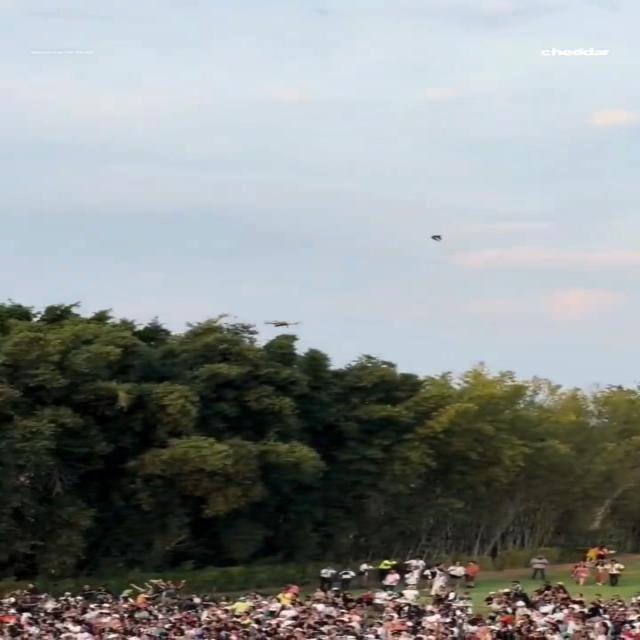bird: (430, 234, 442, 242)
drone: (264, 320, 300, 328)
